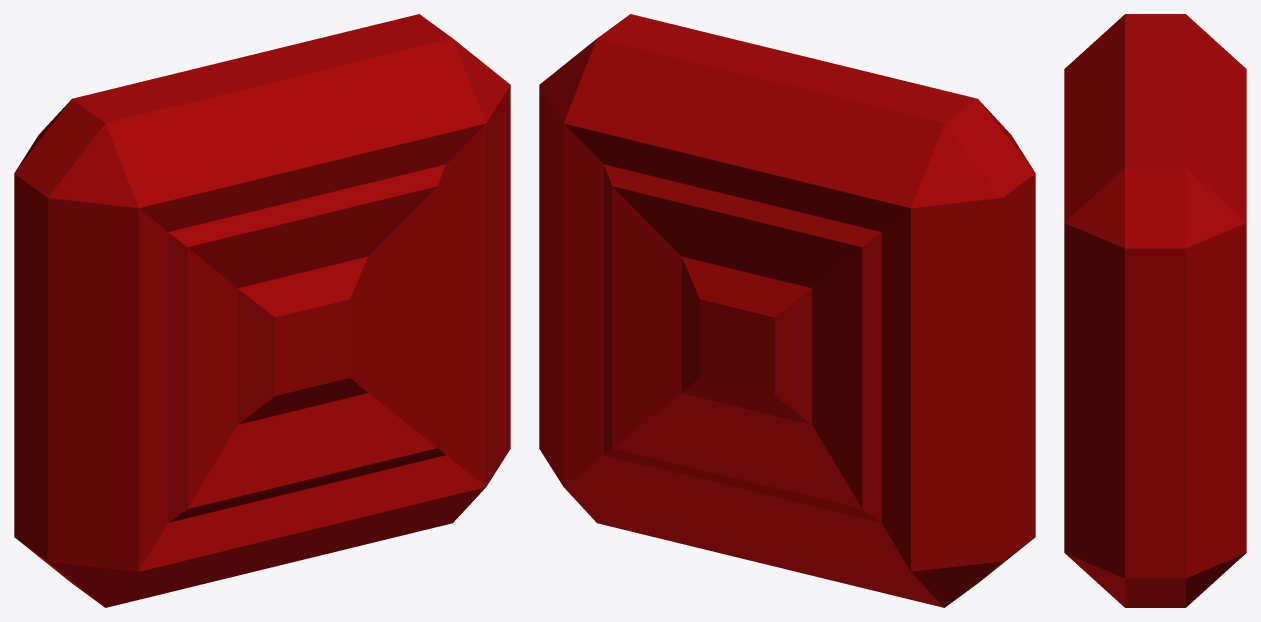
The model's file is Ruby.fbx.
3 renders of one model, left to right at view 1: azimuth 30°, elevation 25°; view 2: azimuth 150°, elevation 25°; view 3: azimuth 270°, elevation 25°, orthographic. The views are drawn at different scales.
Visible parts, largest first — view 1: Ruby; view 2: Ruby; view 3: Ruby.
Boxes of the visible parts, box(x1,y1,x2,y2) form: Ruby: box(14, 14, 510, 607); Ruby: box(539, 14, 1035, 607); Ruby: box(1064, 14, 1246, 607).
Size of the model in its own units: 1 by 1 by 0.375.
